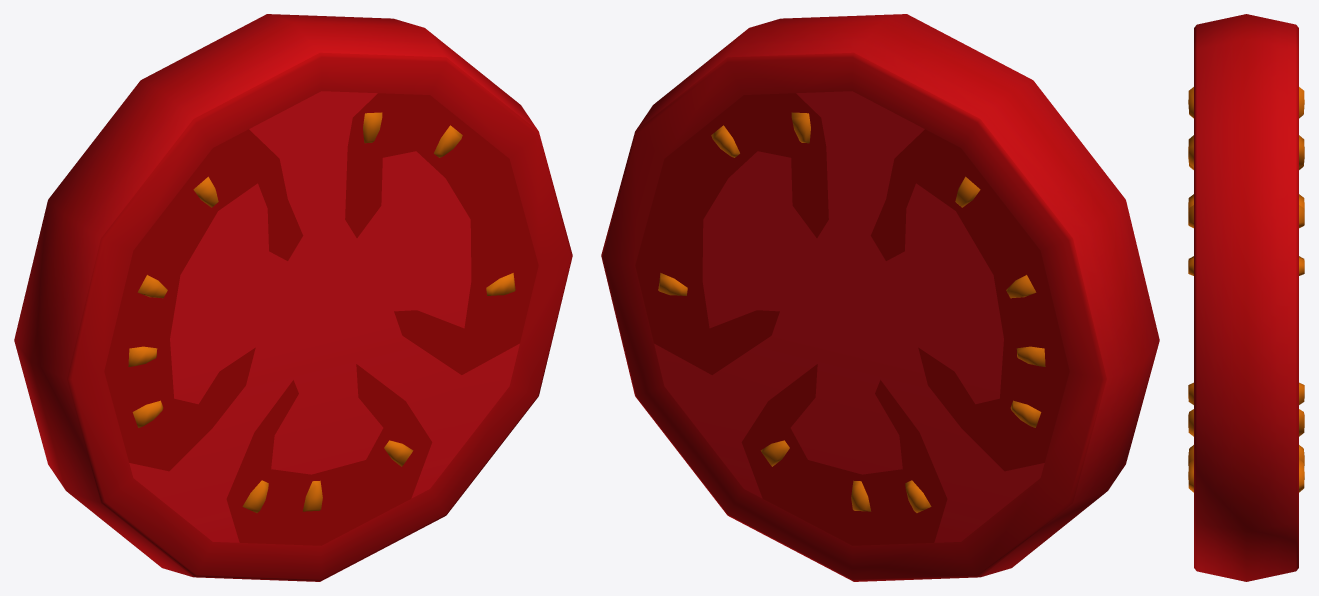
The model's file is Tomato_slice.fbx.
3 views of the same model, side by side, from view 1: azimuth 30°, elevation 25°; view 2: azimuth 150°, elevation 25°; view 3: azimuth 270°, elevation 25° (orthographic). The views are drawn at different scales.
Parts seen in each view (by area): view 1: Tomato_slice; view 2: Tomato_slice; view 3: Tomato_slice.
Part boxes in pixels (x1,y1,x2,y2): Tomato_slice: (14, 14, 572, 581); Tomato_slice: (601, 14, 1159, 581); Tomato_slice: (1188, 14, 1304, 581).
Bounding box in the file's own units: 80.78 × 16.45 × 80.78.
